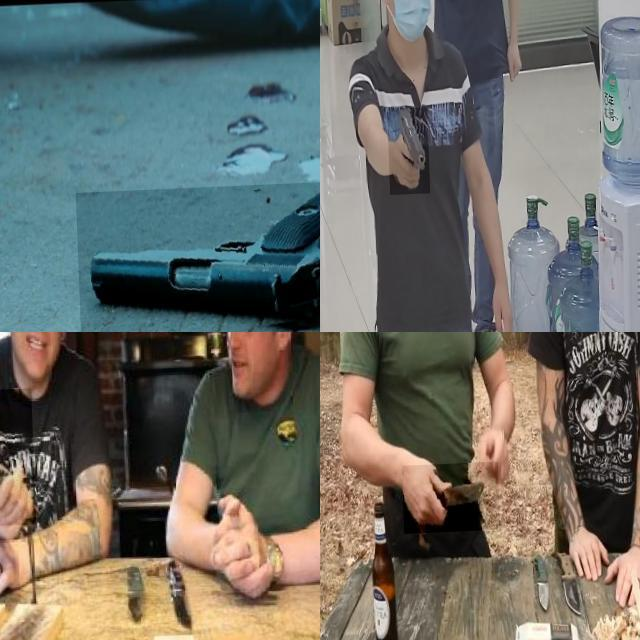-: (0, 390, 51, 530), (399, 465, 497, 536)
gun-knife-thesis - v11 Yolov5 augmented: (73, 184, 320, 332), (385, 110, 428, 198)
